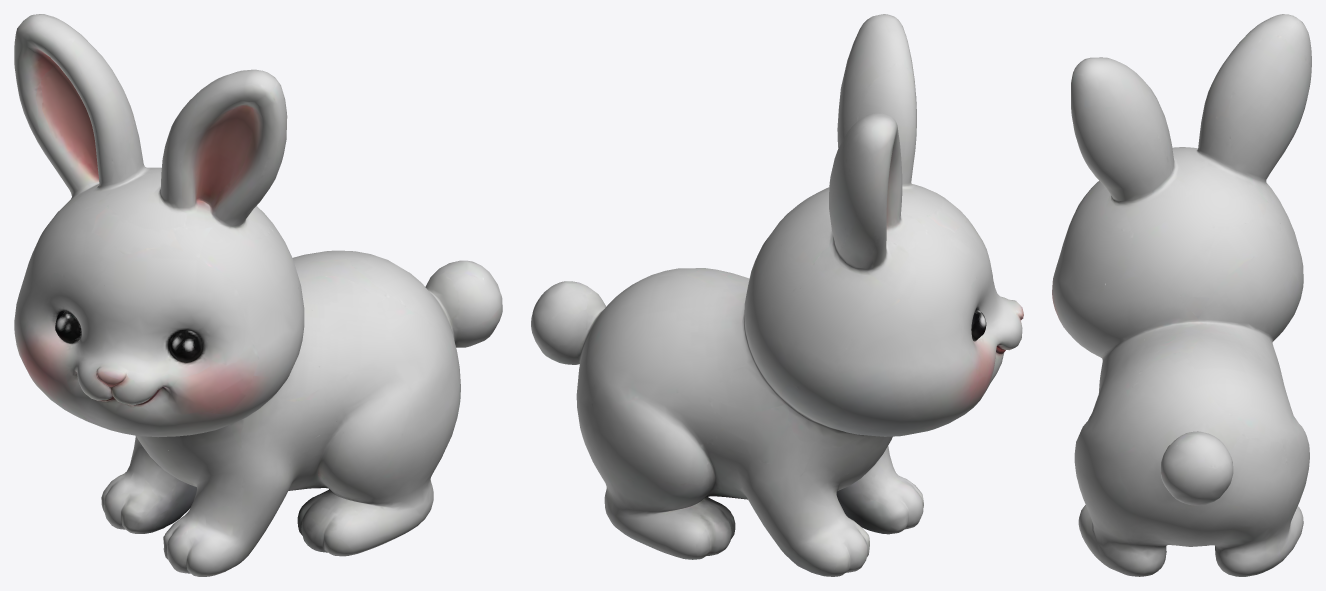
Rendered from pet_rabbit.glb.
3 renders of one model, left to right at view 1: azimuth 30°, elevation 25°; view 2: azimuth 150°, elevation 25°; view 3: azimuth 270°, elevation 25°, orthographic. The views are drawn at different scales.
Visible parts, largest first — view 1: node_0; view 2: node_0; view 3: node_0.
Boxes of the visible parts, box(x1,y1,x2,y2) form: node_0: box(14, 14, 502, 576); node_0: box(531, 14, 1023, 576); node_0: box(1052, 14, 1311, 576).
Size of the model in its own units: 0.8741 by 0.9064 by 0.4892.
Materials: 1 (1 with a texture image).
